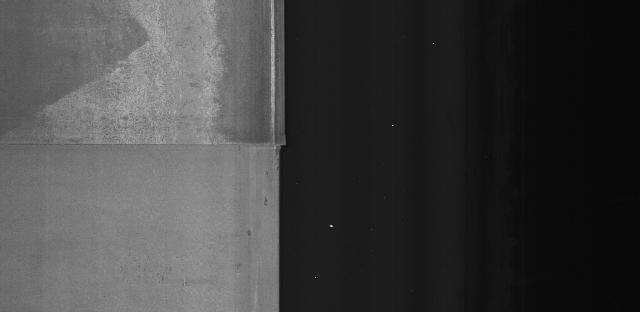welding_line: (0, 134, 294, 156)
